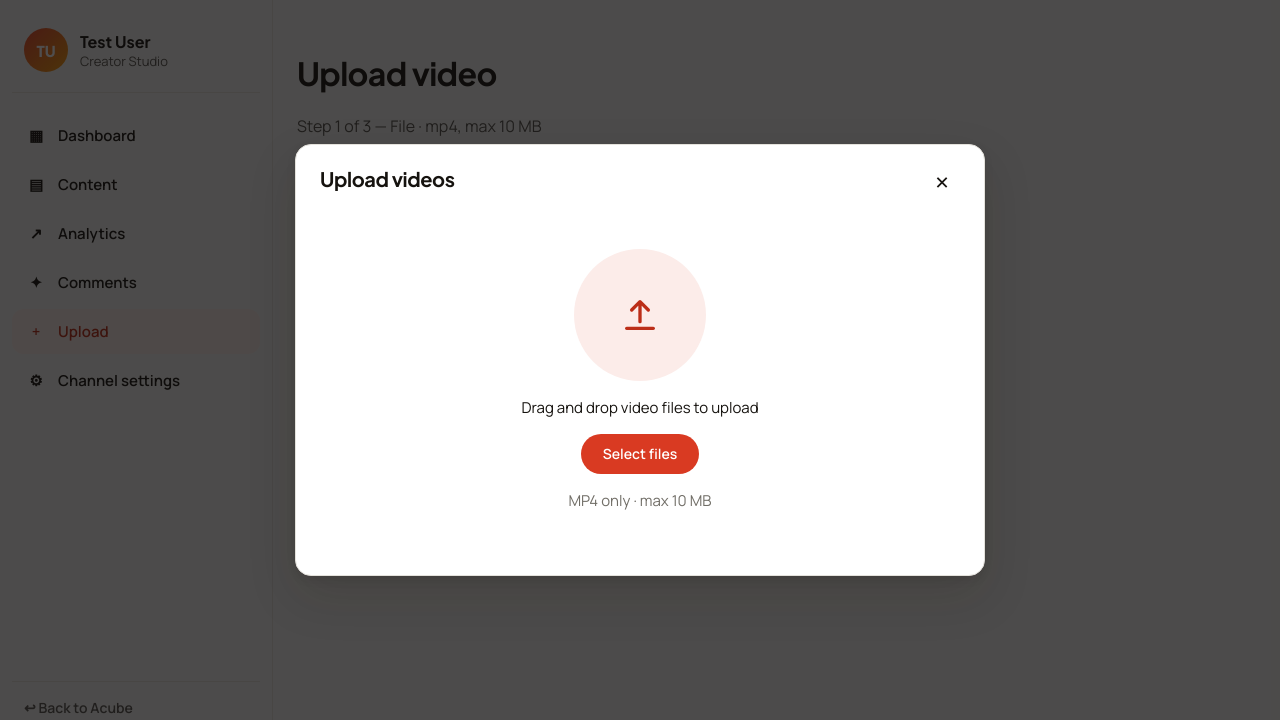
Scenario: Upload wizard — Step 1 modal › X closes the modal and leaves the upload page
Expected: the dialog "Upload videos" is shown, [295, 144, 985, 576]
Click the button named "Close upload" at (942, 183), box [924, 165, 960, 201]
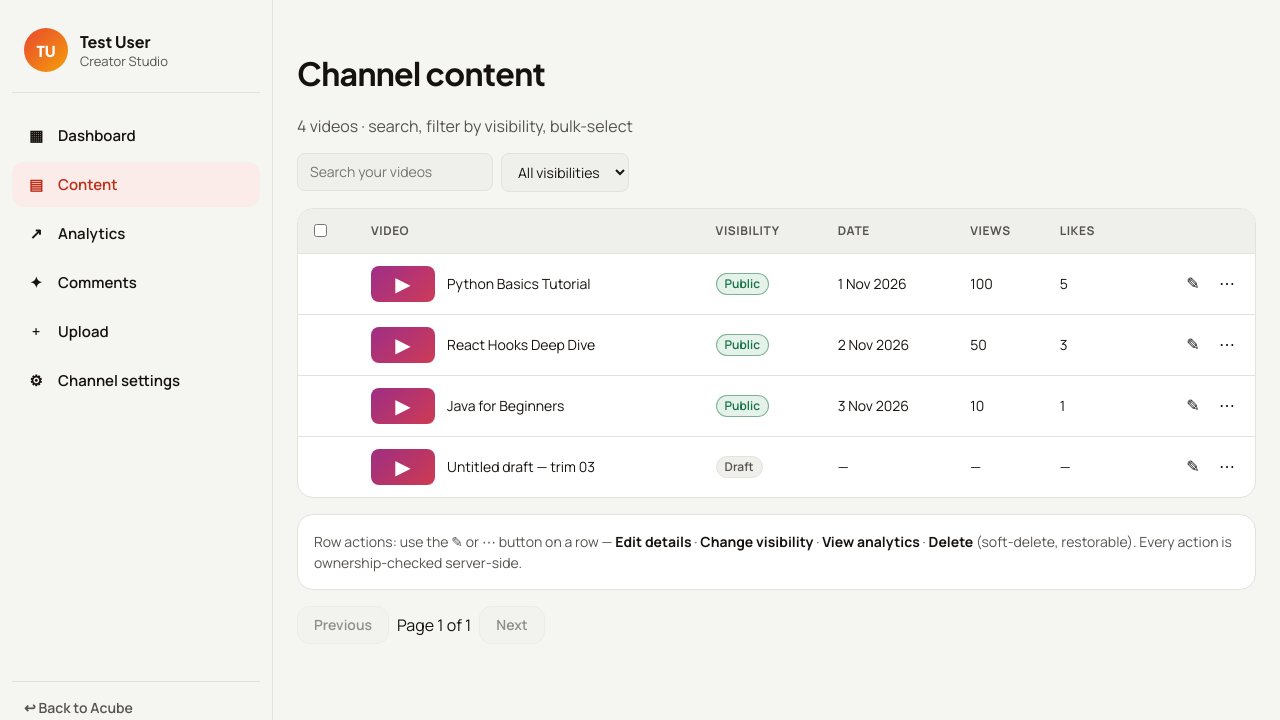
Expected: the heading "Upload videos" is gone
